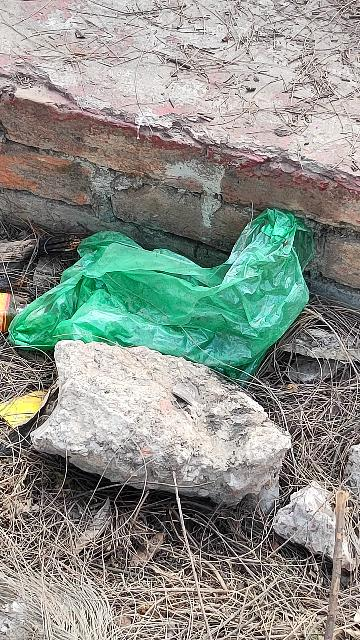polythene: (15, 191, 337, 368)
